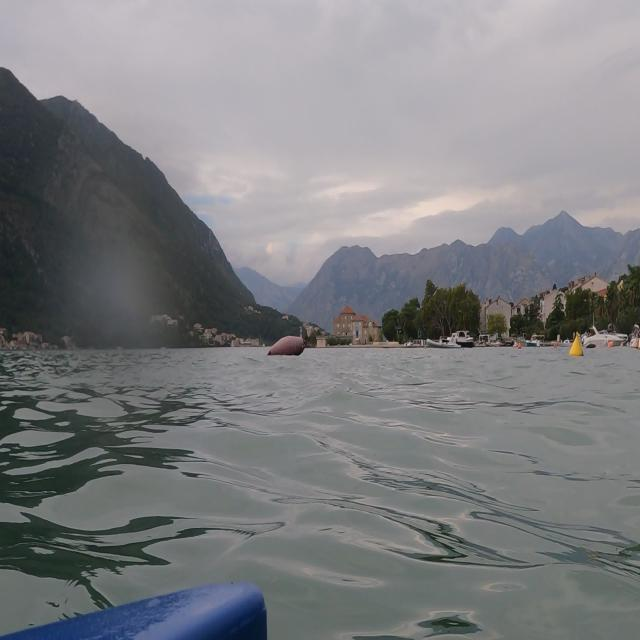boat: (421, 324, 488, 372)
buoy: (265, 326, 313, 378), (566, 328, 593, 373)
